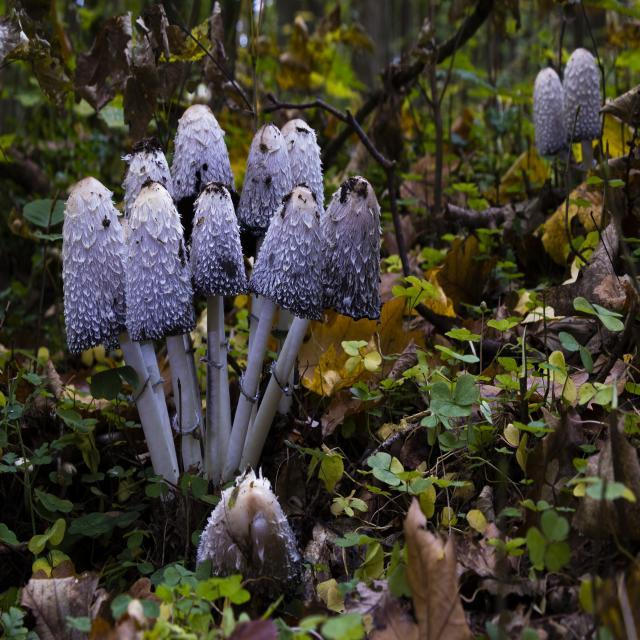Coprinus comatus: (250, 178, 386, 479), (61, 177, 175, 485), (123, 181, 202, 467), (192, 181, 244, 466), (193, 475, 303, 609), (167, 106, 232, 194), (243, 126, 295, 230), (562, 46, 602, 171), (533, 67, 566, 187), (280, 117, 326, 196)
